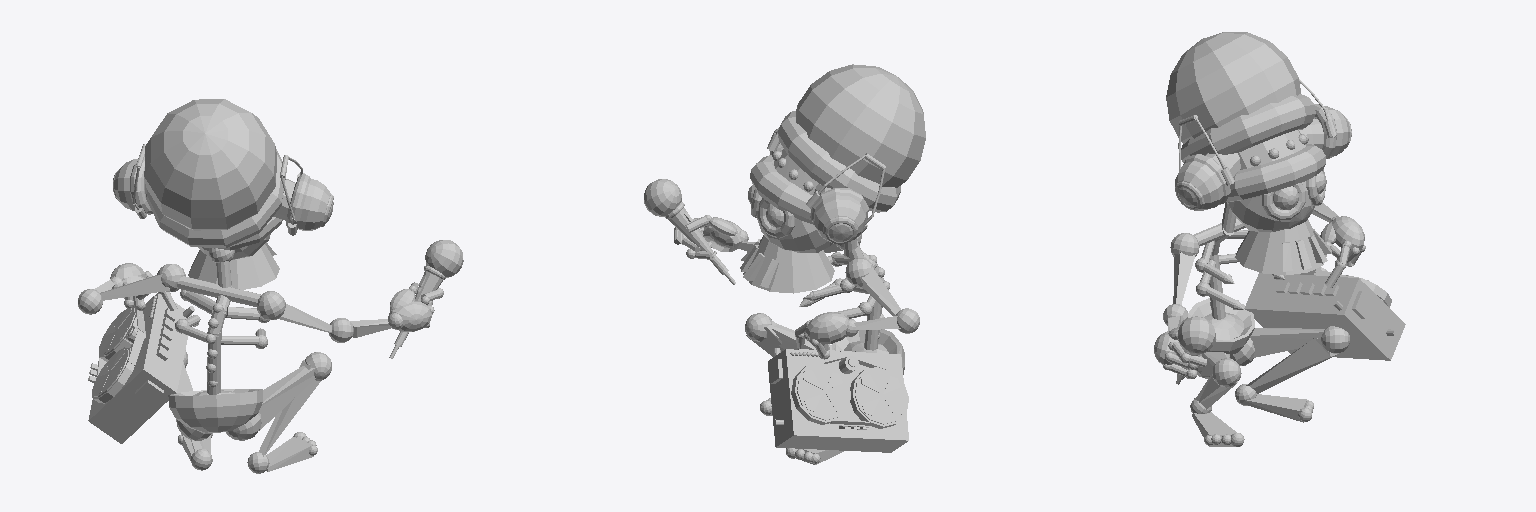
File: robot-lg.obj
3 views of the same model, side by side, from view 1: azimuth 30°, elevation 25°; view 2: azimuth 150°, elevation 25°; view 3: azimuth 270°, elevation 25° (orthographic).
Visible parts, largest first — view 1: mesh[number redacted], mesh[number redacted], mesh[number redacted], mesh[number redacted], mesh[number redacted], mesh[number redacted], mesh[number redacted], mesh[number redacted], mesh[number redacted], mesh[number redacted], mesh[number redacted], mesh[number redacted] (+5 smaller); view 2: mesh[number redacted], mesh[number redacted], mesh[number redacted], mesh[number redacted], mesh[number redacted], mesh[number redacted], mesh[number redacted], mesh[number redacted], mesh[number redacted], mesh[number redacted], mesh[number redacted], mesh[number redacted] (+4 smaller); view 3: mesh[number redacted], mesh[number redacted], mesh[number redacted], mesh[number redacted], mesh[number redacted], mesh[number redacted], mesh[number redacted], mesh[number redacted], mesh[number redacted], mesh[number redacted], mesh[number redacted], mesh[number redacted] (+10 smaller).
Boxes of the visible parts, <box> form: mesh[number redacted]: <box>144,99,276,230</box>; mesh[number redacted]: <box>88,293,194,443</box>; mesh[number redacted]: <box>168,389,262,432</box>; mesh[number redacted]: <box>146,149,286,247</box>; mesh[number redacted]: <box>280,155,333,235</box>; mesh[number redacted]: <box>188,244,279,289</box>; mesh[number redacted]: <box>389,240,463,358</box>; mesh[number redacted]: <box>113,144,152,218</box>; mesh[number redacted]: <box>259,366,315,430</box>; mesh[number redacted]: <box>259,360,320,456</box>; mesh[number redacted]: <box>177,276,260,306</box>; mesh[number redacted]: <box>266,437,313,471</box>; mesh[number redacted]: <box>768,348,908,452</box>; mesh[number redacted]: <box>796,64,925,187</box>; mesh[number redacted]: <box>778,111,900,212</box>; mesh[number redacted]: <box>806,153,885,243</box>; mesh[number redacted]: <box>743,235,834,293</box>; mesh[number redacted]: <box>644,179,735,284</box>; mesh[number redacted]: <box>750,155,813,224</box>; mesh[number redacted]: <box>756,214,832,252</box>; mesh[number redacted]: <box>806,312,847,344</box>; mesh[number redacted]: <box>832,329,904,374</box>; mesh[number redacted]: <box>861,267,900,315</box>; mesh[number redacted]: <box>758,198,795,238</box>; mesh[number redacted]: <box>1166,32,1300,143</box>; mesh[number redacted]: <box>1244,267,1405,360</box>; mesh[number redacted]: <box>1181,94,1315,162</box>; mesh[number redacted]: <box>1226,144,1325,201</box>; mesh[number redacted]: <box>1175,115,1234,210</box>; mesh[number redacted]: <box>1235,220,1326,275</box>; mesh[number redacted]: <box>1188,298,1254,355</box>; mesh[number redacted]: <box>1246,338,1337,393</box>; mesh[number redacted]: <box>1228,181,1314,231</box>; mesh[number redacted]: <box>1250,328,1324,357</box>; mesh[number redacted]: <box>1299,79,1351,158</box>; mesh[number redacted]: <box>1176,316,1215,384</box>.
Bounding box in the file's own units: 21.35 × 23.06 × 14.25.